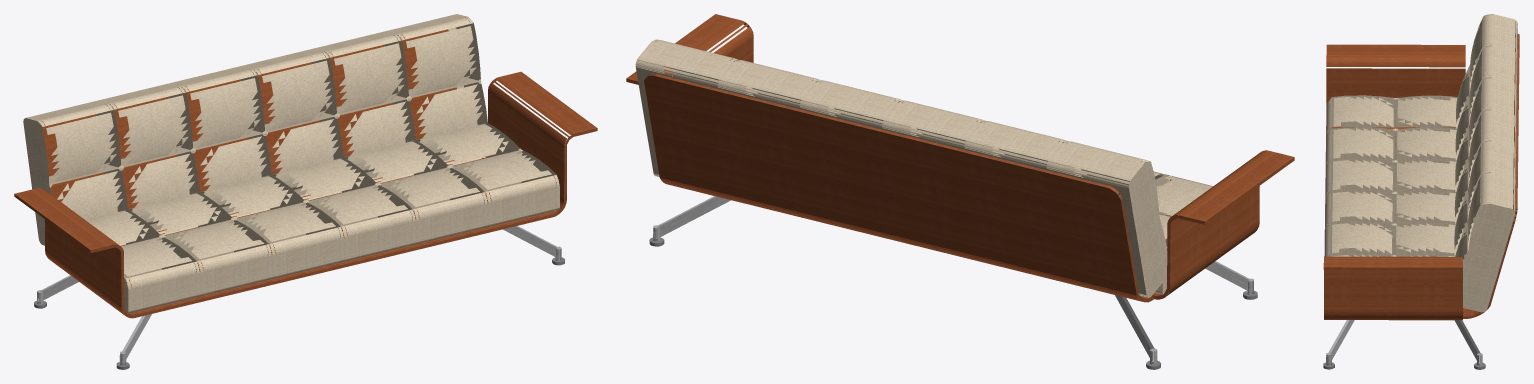
The model's file is sofa-24.glb.
The picture shows the model from 3 angles, left to right: view 1: azimuth 30°, elevation 25°; view 2: azimuth 150°, elevation 25°; view 3: azimuth 270°, elevation 25°; orthographic projection. The views are drawn at different scales.
Parts seen in each view (by area): view 1: Material2.001, Material2, Material2.136, Material2.160, Material2.166, Material2.142, Material2.154, Material2.148, Material2.045, Material2.015, Material2.027, Material2.039 (+36 smaller); view 2: Material2, Material2.001, Material2.163, Material2.145, Material2.157, Material2.139, Material2.151, Material2.133, Material2.002, Material2.109, Material2.030, Material2.009; view 3: Material2.001, Material2.145, Material2.127, Material2.024, Material2.036, Material2.030, Material2.018, Material2.042, Material2.060, Material2.078, Material2.054, Material2.072 (+32 smaller).
Part boxes in pixels (bbox=[...]): Material2.001: bbox=[14, 71, 597, 318]; Material2: bbox=[39, 29, 456, 208]; Material2.136: bbox=[262, 60, 332, 130]; Material2.160: bbox=[118, 95, 188, 165]; Material2.166: bbox=[46, 112, 116, 182]; Material2.142: bbox=[334, 43, 404, 113]; Material2.154: bbox=[190, 78, 260, 147]; Material2.148: bbox=[406, 26, 476, 95]; Material2.045: bbox=[450, 149, 559, 227]; Material2.015: bbox=[234, 202, 343, 279]; Material2.027: bbox=[122, 236, 200, 313]; Material2.039: bbox=[378, 167, 487, 244]; Material2: bbox=[644, 73, 1138, 295]; Material2.001: bbox=[626, 14, 1294, 299]; Material2.163: bbox=[1046, 141, 1159, 241]; Material2.145: bbox=[635, 40, 733, 121]; Material2.157: bbox=[964, 121, 1075, 175]; Material2.139: bbox=[717, 60, 828, 114]; Material2.151: bbox=[882, 101, 993, 155]; Material2.133: bbox=[800, 80, 910, 134]; Material2.002: bbox=[660, 178, 1154, 302]; Material2.109: bbox=[1129, 216, 1167, 297]; Material2.030: bbox=[1156, 176, 1212, 215]; Material2.009: bbox=[655, 196, 730, 239]; Material2.001: bbox=[1323, 44, 1465, 320]; Material2.145: bbox=[1467, 172, 1515, 261]; Material2.127: bbox=[1463, 223, 1501, 312]; Material2.024: bbox=[1333, 128, 1393, 158]; Material2.036: bbox=[1332, 191, 1392, 221]; Material2.030: bbox=[1333, 96, 1393, 127]; Material2.018: bbox=[1332, 160, 1392, 190]; Material2.042: bbox=[1332, 223, 1392, 253]; Material2.060: bbox=[1396, 223, 1455, 253]; Material2.078: bbox=[1397, 128, 1457, 158]; Material2.054: bbox=[1396, 192, 1456, 221]; Material2.072: bbox=[1397, 160, 1456, 190].
Bounding box in the file's own units: 16.86 × 5.76 × 6.28.
5 materials, 3 textured.
